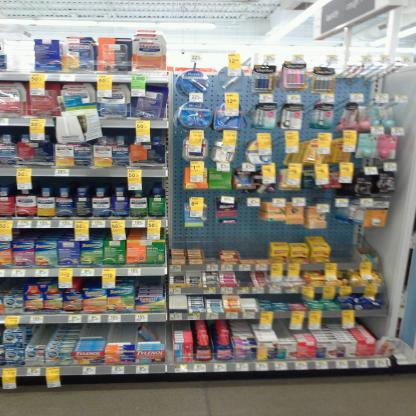Void: (330, 226, 355, 259), (241, 207, 260, 246), (178, 229, 228, 241), (112, 325, 133, 340), (86, 325, 104, 336), (273, 323, 289, 334)
